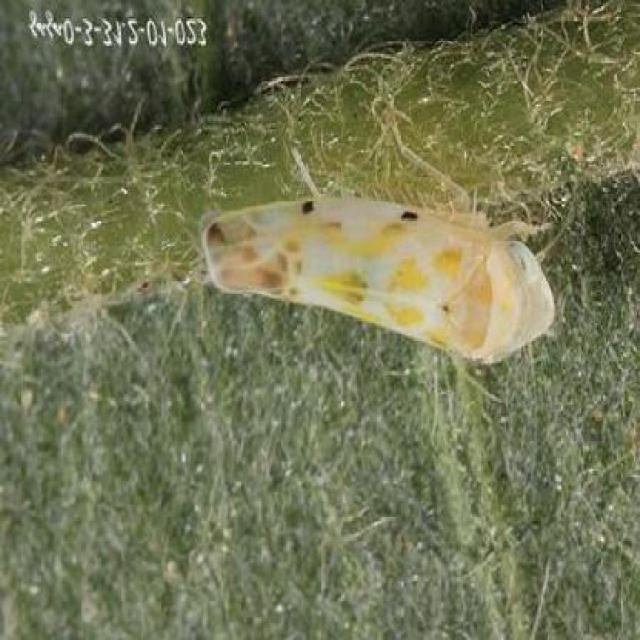green-leafhopper: (200, 151, 548, 363)
